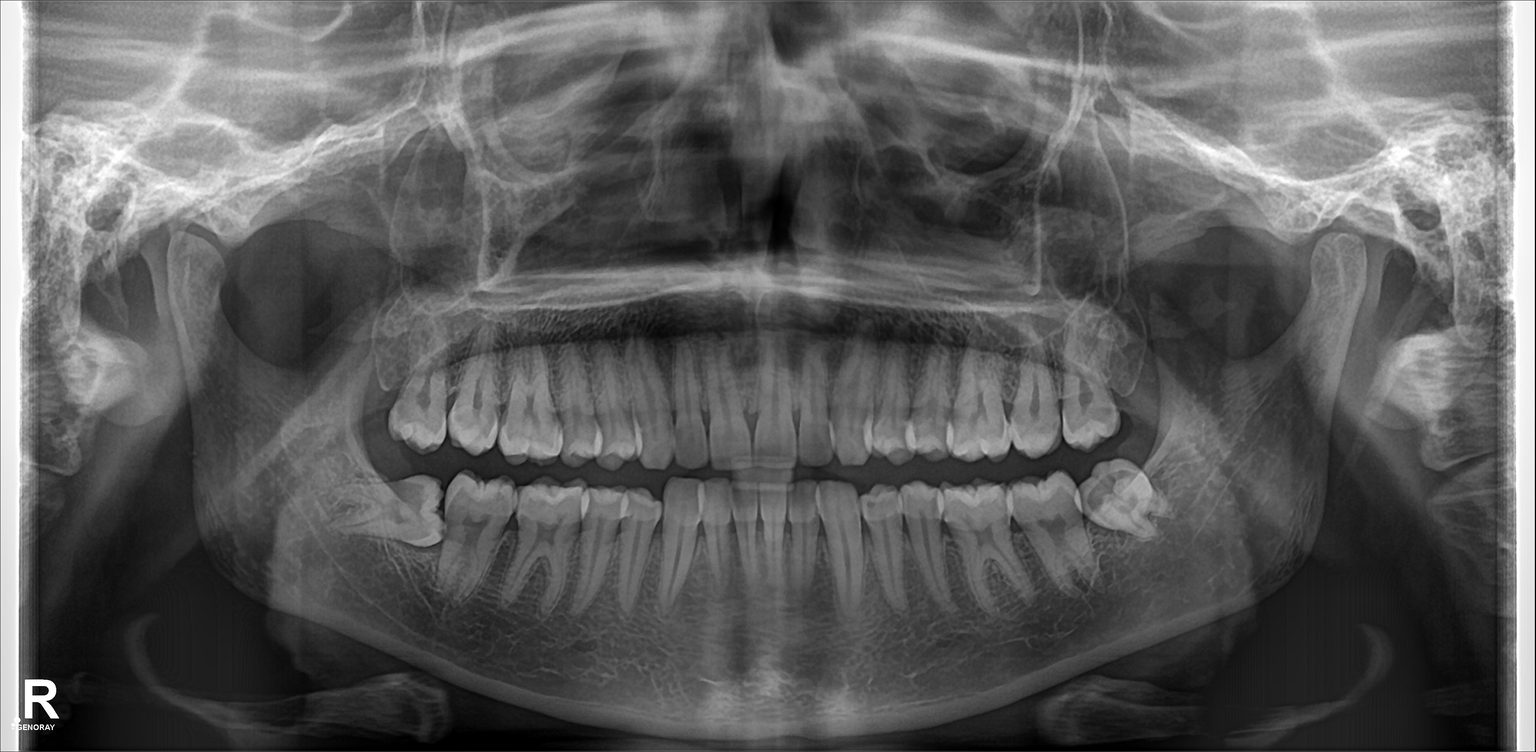Impacted Third Molar: (331, 478, 445, 544), (1084, 463, 1164, 523)
Missing Tooth: (1110, 324, 1162, 411), (358, 359, 402, 436)
